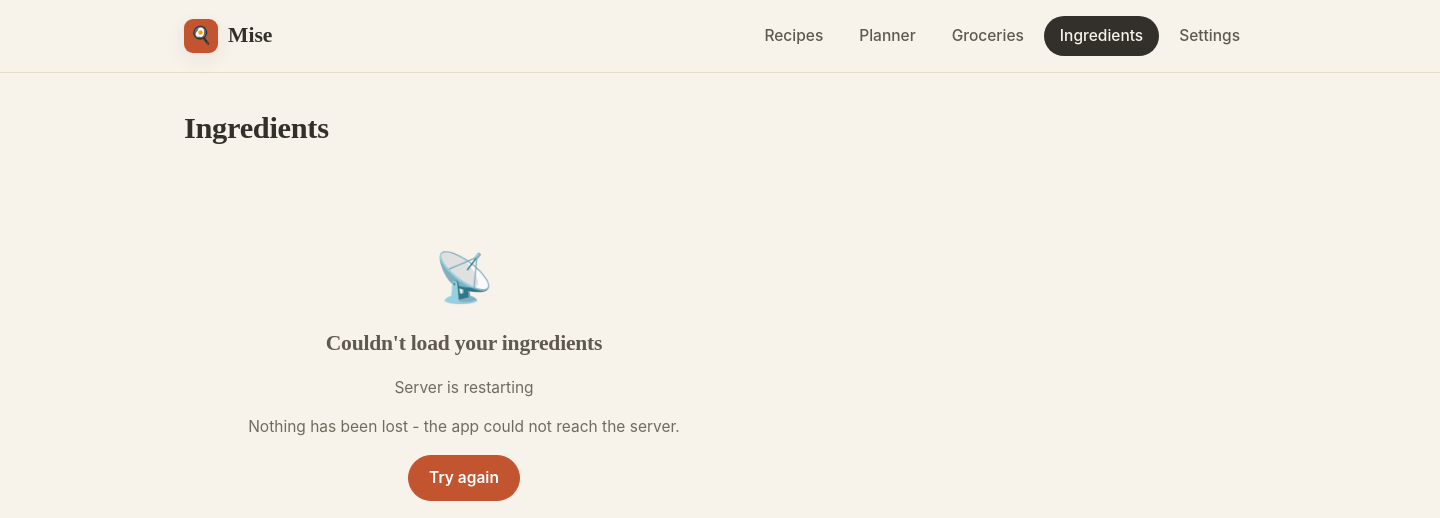
Test: IngredientsPage: staples › retries a failed load
The width and height of the screenshot is (1440, 518).
Expected: the heading "Couldn't load your ingredients" is shown, [326,330,602,354]
Click the button "Try again" at (464, 478), box [408,454,520,500]
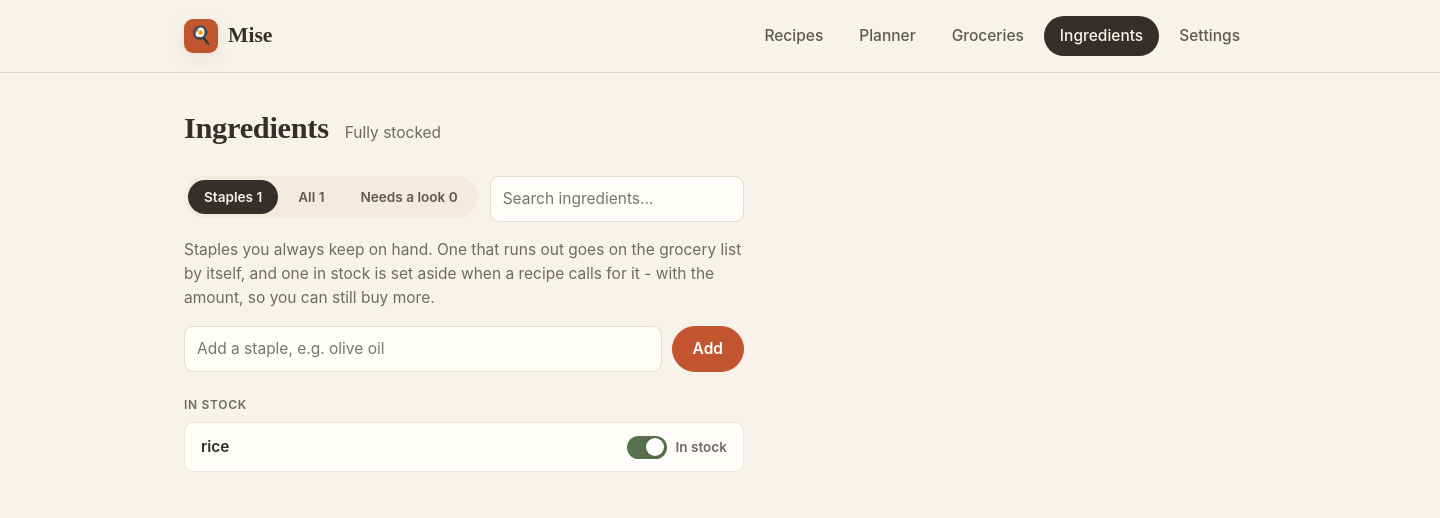
Expected: the link "rice" is shown, [201,437,230,456]
